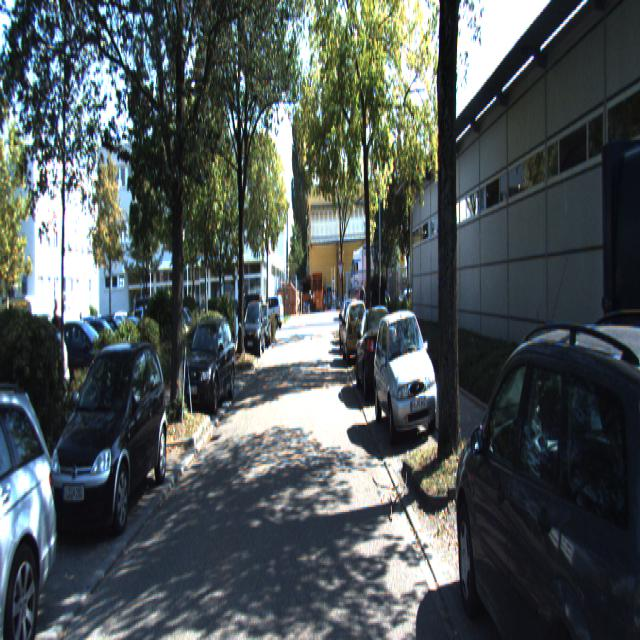Car: (451, 307, 639, 638), (49, 336, 170, 551), (0, 381, 67, 638), (372, 306, 442, 450), (179, 316, 237, 420), (354, 306, 402, 407), (342, 298, 371, 368), (338, 301, 362, 359), (242, 304, 265, 362), (255, 297, 285, 329)
